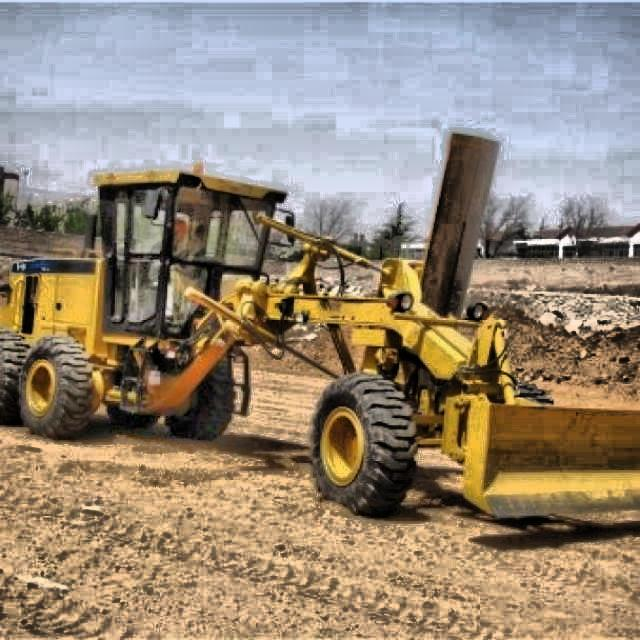bull_dozer/loader/grader: (0, 160, 640, 535)
person: (146, 216, 190, 286)
